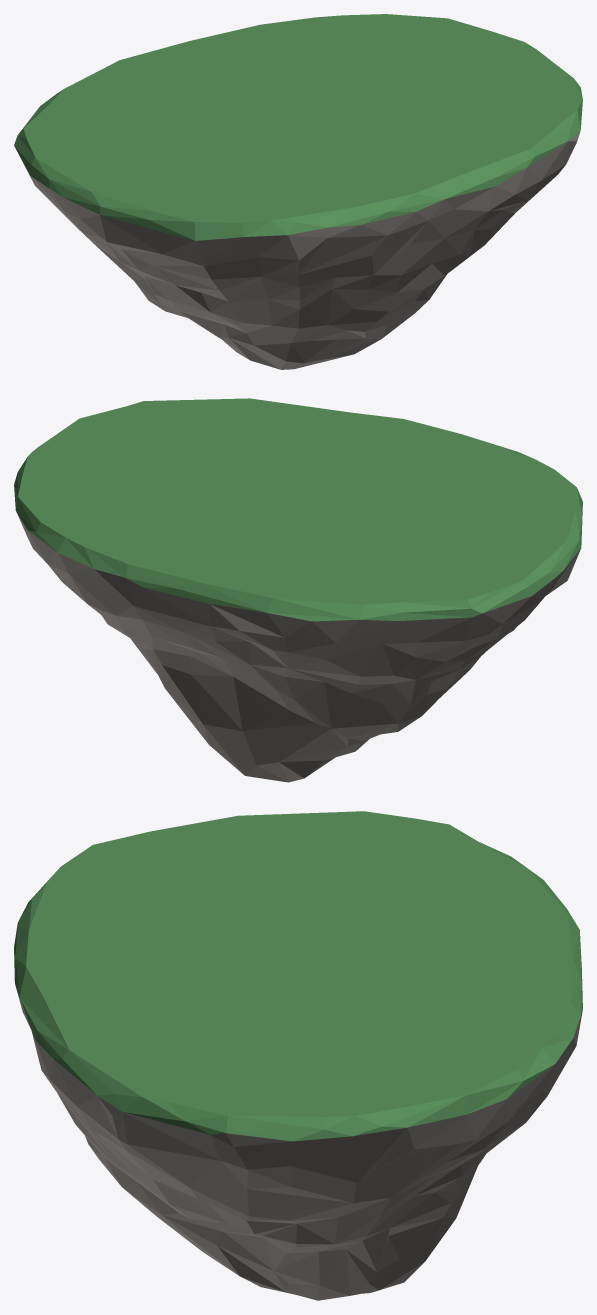
The model's file is Level1Blockout.fbx.
3 renders of one model, top to bottom at view 1: azimuth 30°, elevation 25°; view 2: azimuth 150°, elevation 25°; view 3: azimuth 270°, elevation 25°, orthographic. The views are drawn at different scales.
Parts seen in each view (by area): view 1: Level1Blockout; view 2: Level1Blockout; view 3: Level1Blockout.
Boxes of the visible parts, x1,y1,x2,y2 form: Level1Blockout: (14,14,582,369); Level1Blockout: (14,398,582,782); Level1Blockout: (14,811,582,1300).
Bounding box in the file's own units: 4984 × 2444 × 3783.
